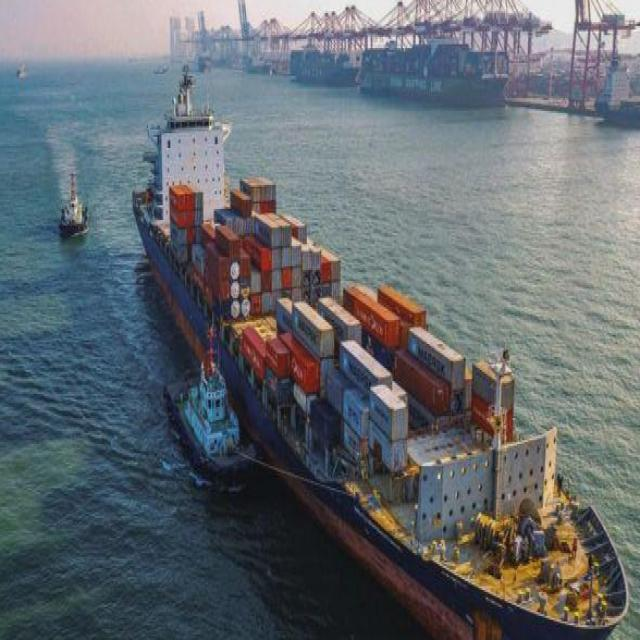cargoship: (135, 68, 630, 640), (157, 333, 250, 488), (52, 164, 92, 251)
